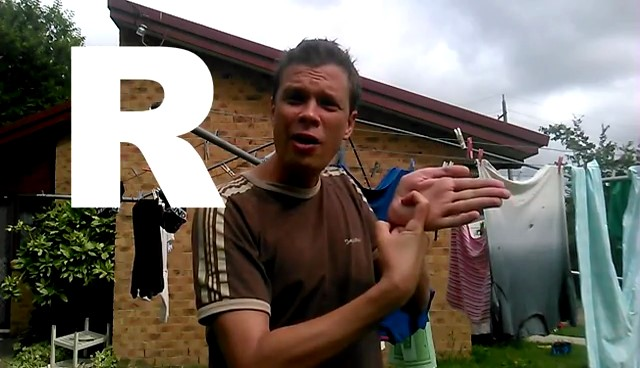R: (357, 155, 523, 307)
